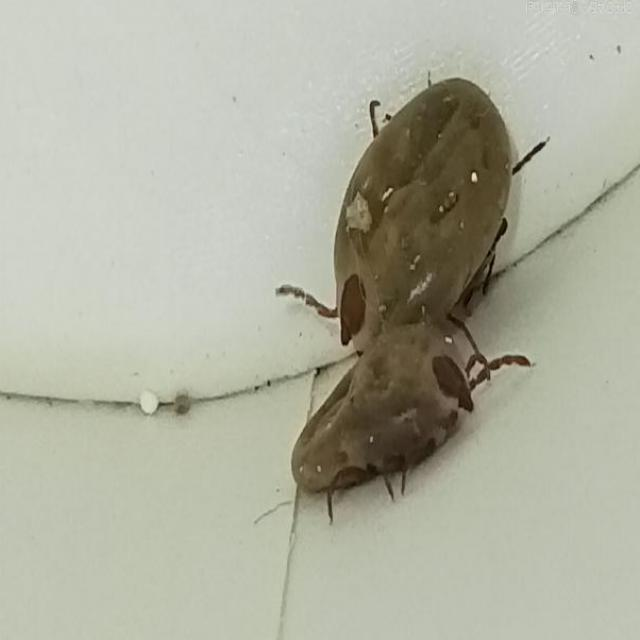Rhipicephalus Sanguineus-F-Fed: (273, 77, 549, 353), (290, 321, 531, 525)
